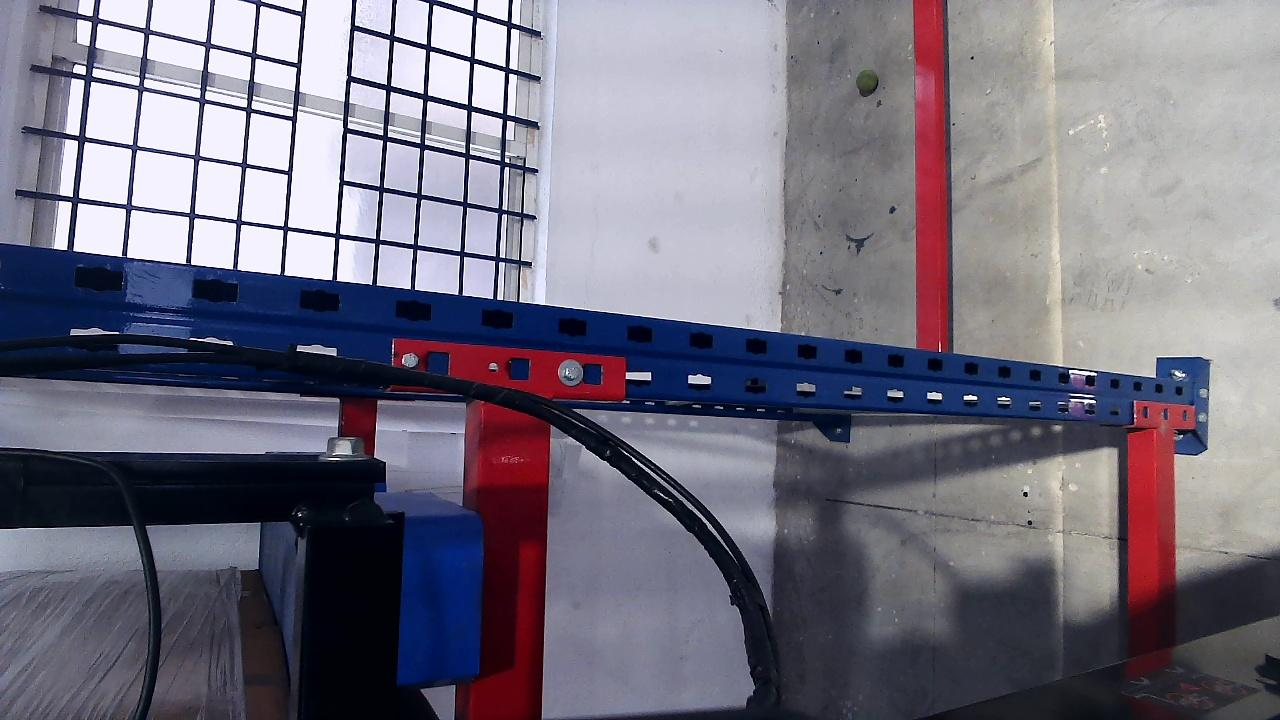h_rack: (476, 397, 553, 718), (1124, 421, 1166, 676)
